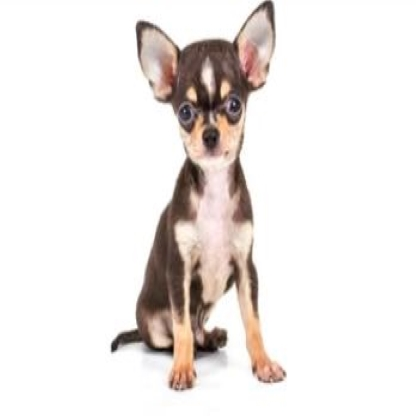chihuahua: (110, 2, 288, 390)
